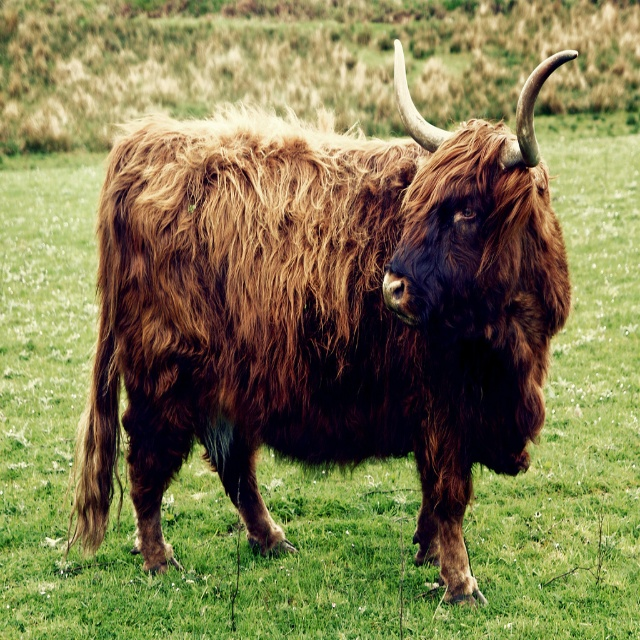Cattle: (63, 38, 580, 616)
